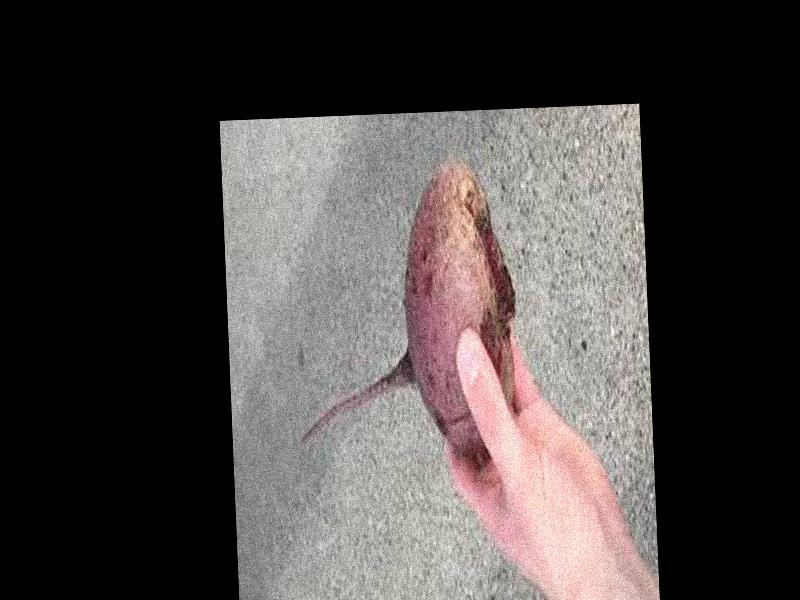Beet: (292, 161, 520, 454)
